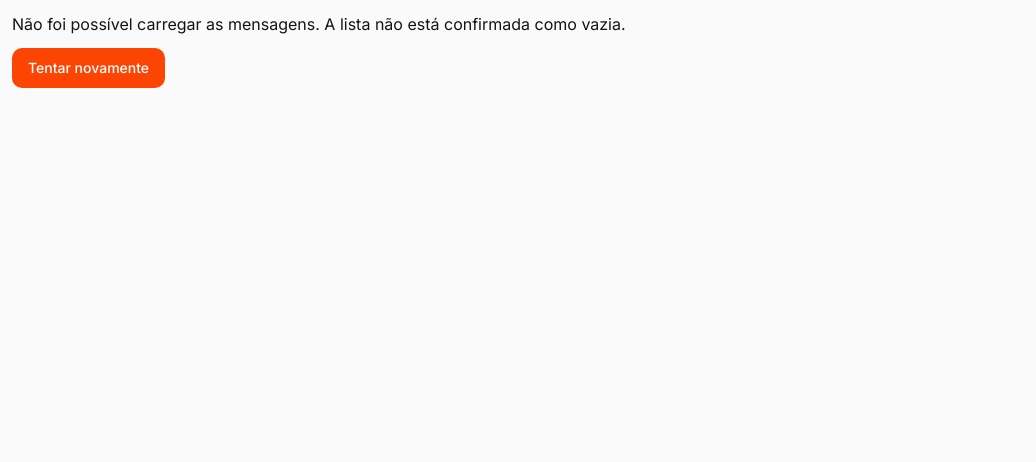
Test case: shows query failure instead of an empty queue and allows retry
The image size is (1036, 462).
Expected: the message shows "Não foi possível carregar", [12,14,626,34]
Expected: the text "Nenhuma falha" is not shown
Step 1. Click the button "Tentar novamente" → click(89, 68), box [12,48,165,88]
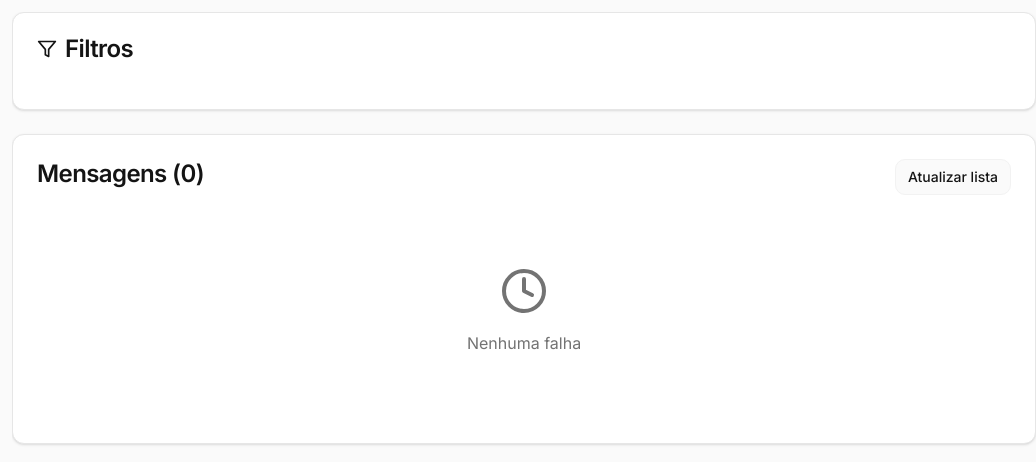
Now the text "Nenhuma falha" is shown, box [467,333,581,353]
